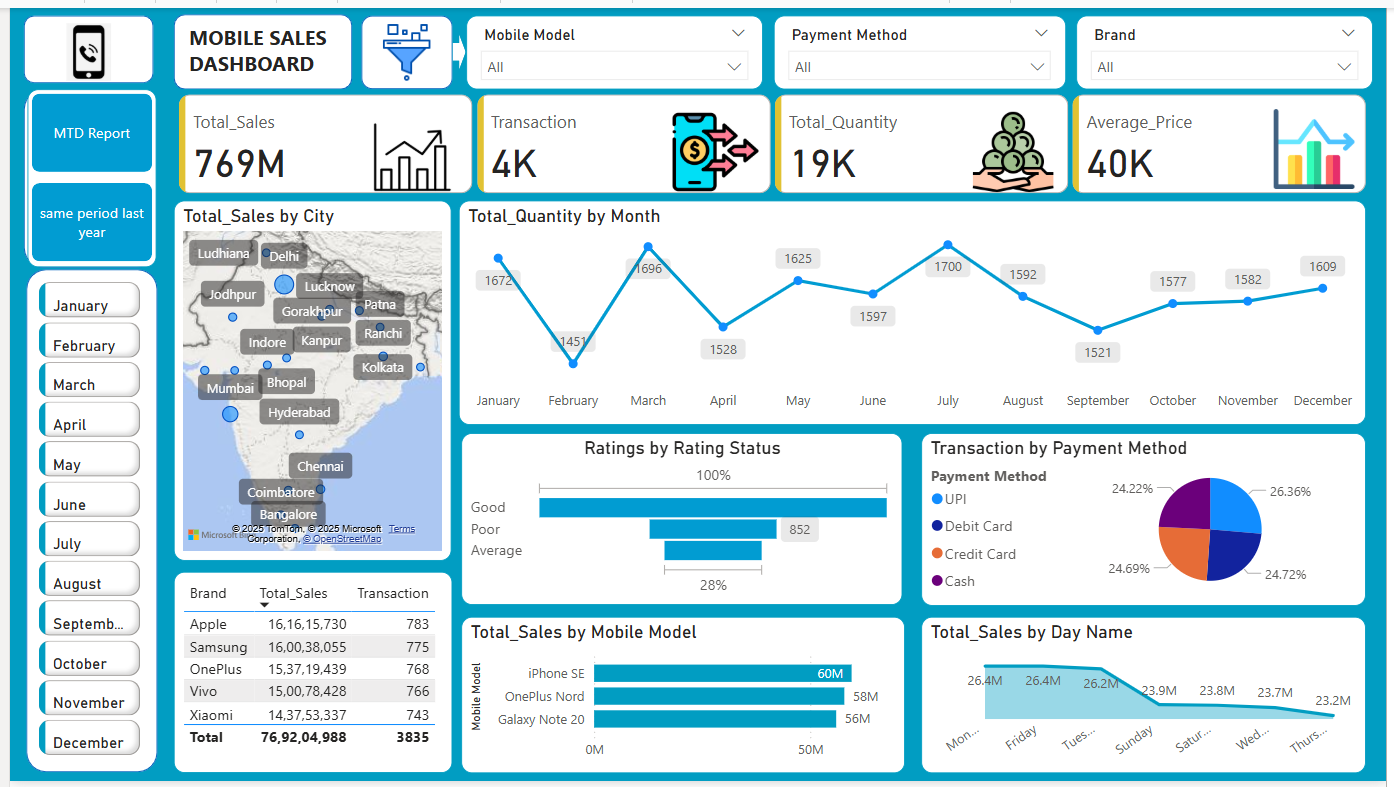

The dashboard page shown, as its layout file describes it:
{"tool":"powerbi","page":{"name":"Dashboard","canvas":[1280,720],"ordinal":1},"visuals":[{"type":"shape","box":[12.3,6.9,120.8,63.1],"z":0},{"type":"image","box":[37,9.6,71.4,63.1],"z":1000},{"type":"shape","box":[12.3,75.5,123.5,166],"z":2000},{"type":"shape","box":[15.1,242.9,122.1,467.9],"z":3000},{"type":"advancedSlicerVisual","fields":{"Values":["custom_calender.Date.Variation.Date Hierarchy.Month"]},"box":[22,249.7,104.3,455.6],"z":4000},{"type":"cardVisual","fields":{"Data":["mobile_sales_dataset.Total_Sales","mobile_sales_dataset.Transaction","mobile_sales_dataset.Total_Quantity","mobile_sales_dataset.Average_Price"]},"box":[152.3,75.5,1115.6,102.9],"z":5000},{"type":"slicer","fields":{"Values":["mobile_sales_dataset.Mobile Model"]},"box":[424,6.9,275.8,68.6],"z":6000},{"type":"slicer","fields":{"Values":["mobile_sales_dataset.Payment Method"]},"box":[710.8,6.9,271.7,68.6],"z":7000},{"type":"slicer","fields":{"Values":["mobile_sales_dataset.Brand"]},"box":[992.1,6.9,275.8,68.6],"z":8000},{"type":"shape","box":[326.6,6.9,85.1,68.6],"z":9000},{"type":"image","box":[318.4,9.6,101.5,64.5],"z":10000},{"type":"shape","box":[411.7,24.7,12.3,32.9],"z":11000},{"type":"shape","box":[152.3,5.5,166,70],"z":12000},{"type":"textbox","box":[161.9,9.6,145.5,64.5],"z":13000},{"type":"map","fields":{"Category":["mobile_sales_dataset.City"],"Size":["mobile_sales_dataset.Total_Sales"]},"box":[152.5,178.8,258.8,335],"z":14000},{"type":"lineChart","fields":{"Category":["custom_calender.Date.Variation.Date Hierarchy.Month"],"Y":["mobile_sales_dataset.Total_Quantity"]},"box":[417.5,178.8,843.8,208.8],"z":15000},{"type":"ribbonChart","title":"Ratings by Rating Status","fields":{"Category":["mobile_sales_dataset.Rating Status"],"Y":["CountNonNull(mobile_sales_dataset.Customer Age)"]},"box":[420,395.7,410,160],"z":16000},{"type":"pieChart","fields":{"Y":["mobile_sales_dataset.Transaction"],"Category":["mobile_sales_dataset.Payment Method"]},"box":[847.7,395.3,414,160.5],"z":17000},{"type":"clusteredBarChart","fields":{"Y":["mobile_sales_dataset.Total_Sales"],"Category":["mobile_sales_dataset.Mobile Model"]},"box":[420,565.7,412.9,145.7],"z":18000},{"type":"areaChart","fields":{"Y":["mobile_sales_dataset.Total_Sales"],"Category":["custom_calender.Day Name"]},"box":[847.7,566.3,414,145.3],"z":19000},{"type":"tableEx","fields":{"Values":["mobile_sales_dataset.Brand","mobile_sales_dataset.Total_Sales","mobile_sales_dataset.Transaction"]},"box":[152.3,524.4,259.3,187.2],"z":20000},{"type":"pageNavigator","box":[15.7,75.7,120,165.7],"z":21000}]}

Visuals, with their boxes in screenshot pixels (x1, y1, x2, y2), scaled from the page's 1280x720 canvas onto the 1394x787 screenshot:
shape: select_region(13, 8, 145, 77)
image: select_region(40, 10, 118, 79)
shape: select_region(13, 83, 148, 264)
shape: select_region(16, 266, 149, 777)
advancedSlicerVisual - custom_calender.Date.Variation.Date Hierarchy.Month: select_region(24, 273, 138, 771)
cardVisual - mobile_sales_dataset.Total_Sales x mobile_sales_dataset.Transaction: select_region(166, 83, 1381, 195)
slicer - mobile_sales_dataset.Mobile Model: select_region(462, 8, 762, 83)
slicer - mobile_sales_dataset.Payment Method: select_region(774, 8, 1070, 83)
slicer - mobile_sales_dataset.Brand: select_region(1080, 8, 1381, 83)
shape: select_region(356, 8, 448, 83)
image: select_region(347, 10, 457, 81)
shape: select_region(448, 27, 462, 63)
shape: select_region(166, 6, 347, 83)
textbox: select_region(176, 10, 335, 81)
map - mobile_sales_dataset.City x mobile_sales_dataset.Total_Sales: select_region(166, 195, 448, 562)
lineChart - custom_calender.Date.Variation.Date Hierarchy.Month x mobile_sales_dataset.Total_Quantity: select_region(455, 195, 1374, 424)
"Ratings by Rating Status" ribbonChart: select_region(457, 433, 904, 607)
pieChart - mobile_sales_dataset.Transaction x mobile_sales_dataset.Payment Method: select_region(923, 432, 1374, 608)
clusteredBarChart - mobile_sales_dataset.Total_Sales x mobile_sales_dataset.Mobile Model: select_region(457, 618, 907, 778)
areaChart - mobile_sales_dataset.Total_Sales x custom_calender.Day Name: select_region(923, 619, 1374, 778)
tableEx - mobile_sales_dataset.Brand x mobile_sales_dataset.Total_Sales: select_region(166, 573, 448, 778)
pageNavigator: select_region(17, 83, 148, 264)
